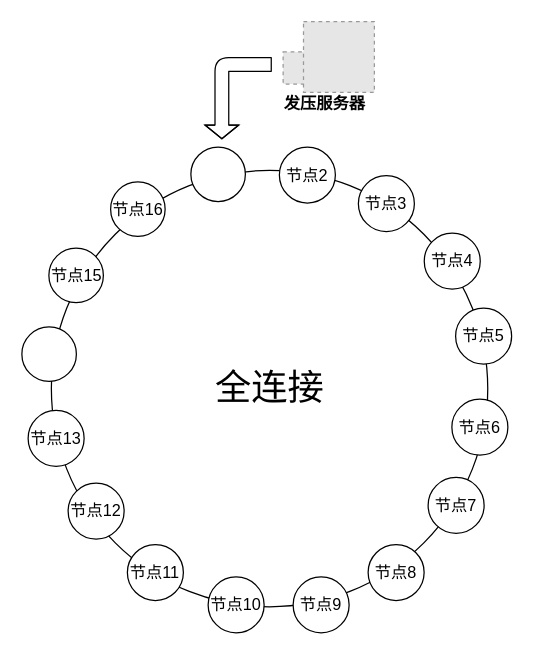
Image size: 534x656. Some labels were removed from this diagram. Grey dashed boxes stand in for pictures. Here are the shapes that lost their labels. From the top down, the centre of each, then its label:
(x=217, y=174): 节点1
(x=48, y=353): 节点14
